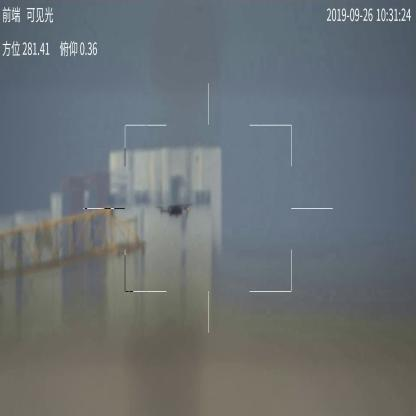uav: (156, 202, 194, 219)
